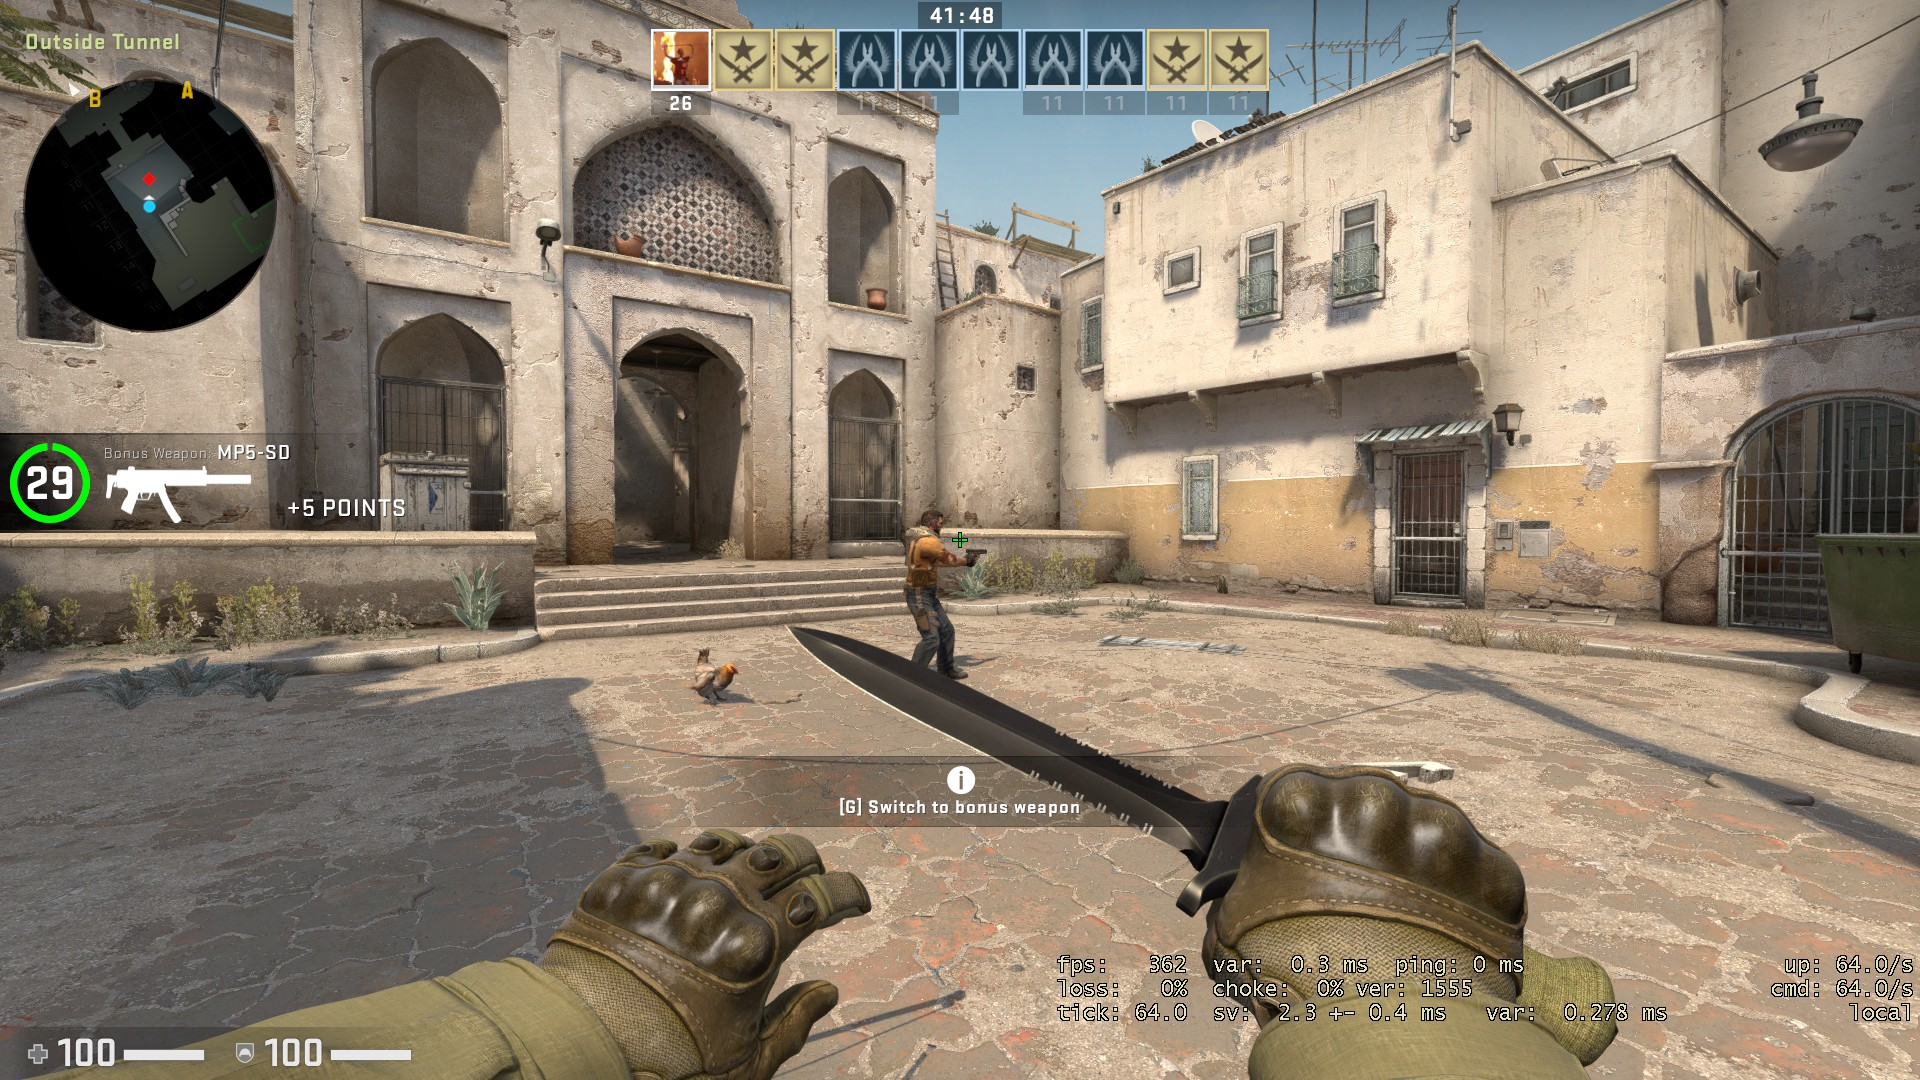player: (898, 503, 973, 684)
